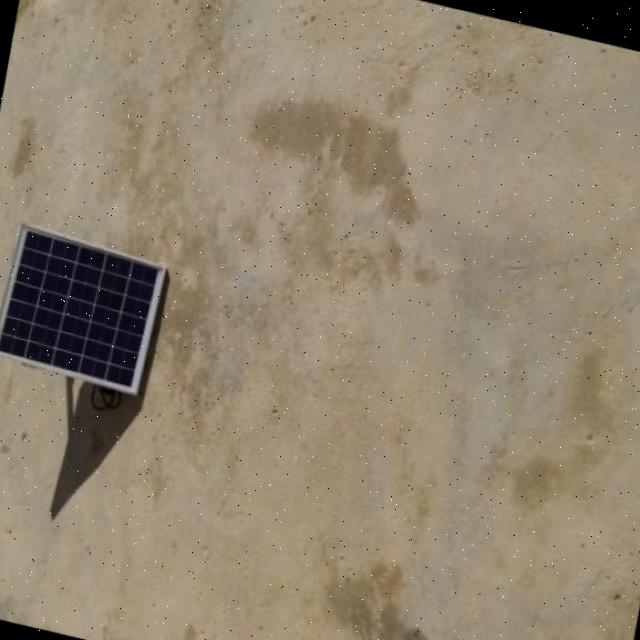Normal Solar Panel: (0, 215, 169, 394)
